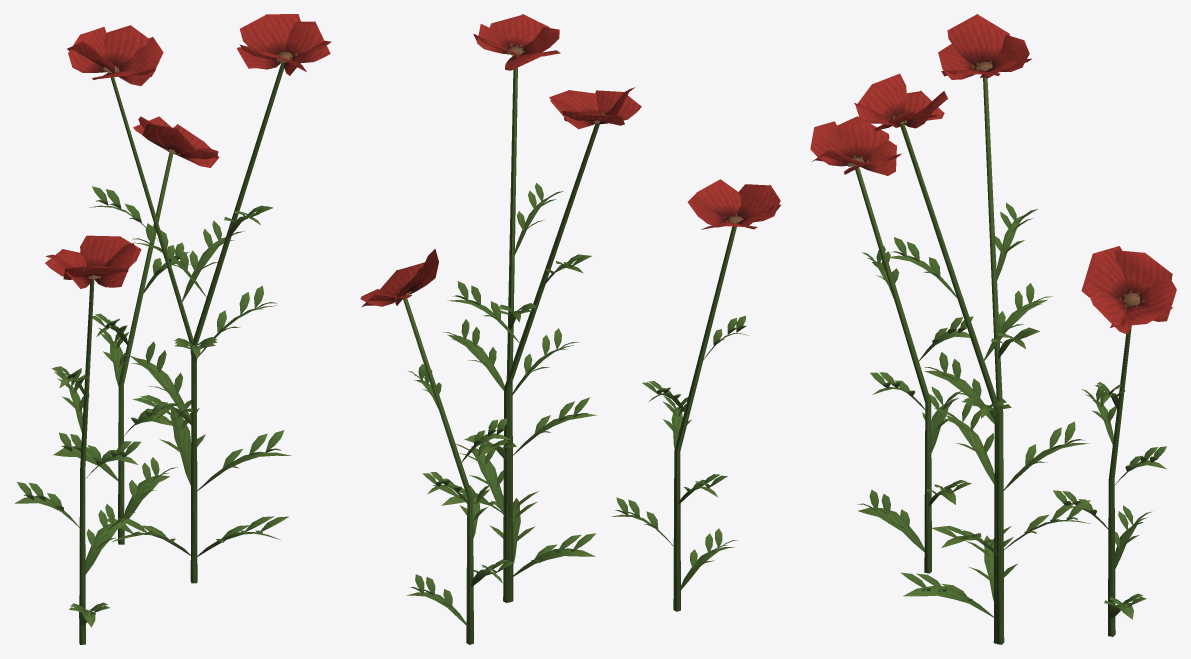
Rendered from FieldPoppy_B.fbx.
The picture shows the model from 3 angles, left to right: view 1: azimuth 30°, elevation 25°; view 2: azimuth 150°, elevation 25°; view 3: azimuth 270°, elevation 25°; orthographic projection. The views are drawn at different scales.
Parts seen in each view (by area): view 1: FieldPoppy_B_LOD0; view 2: FieldPoppy_B_LOD0; view 3: FieldPoppy_B_LOD0.
Boxes of the visible parts, box(x1,y1,x2,y2) form: FieldPoppy_B_LOD0: box(14, 14, 331, 644); FieldPoppy_B_LOD0: box(360, 14, 780, 644); FieldPoppy_B_LOD0: box(810, 14, 1176, 644).
Size of what is drawn, in the model's own units: 22.27 by 41.02 by 23.89.
Materials: 1 (1 with a texture image).
